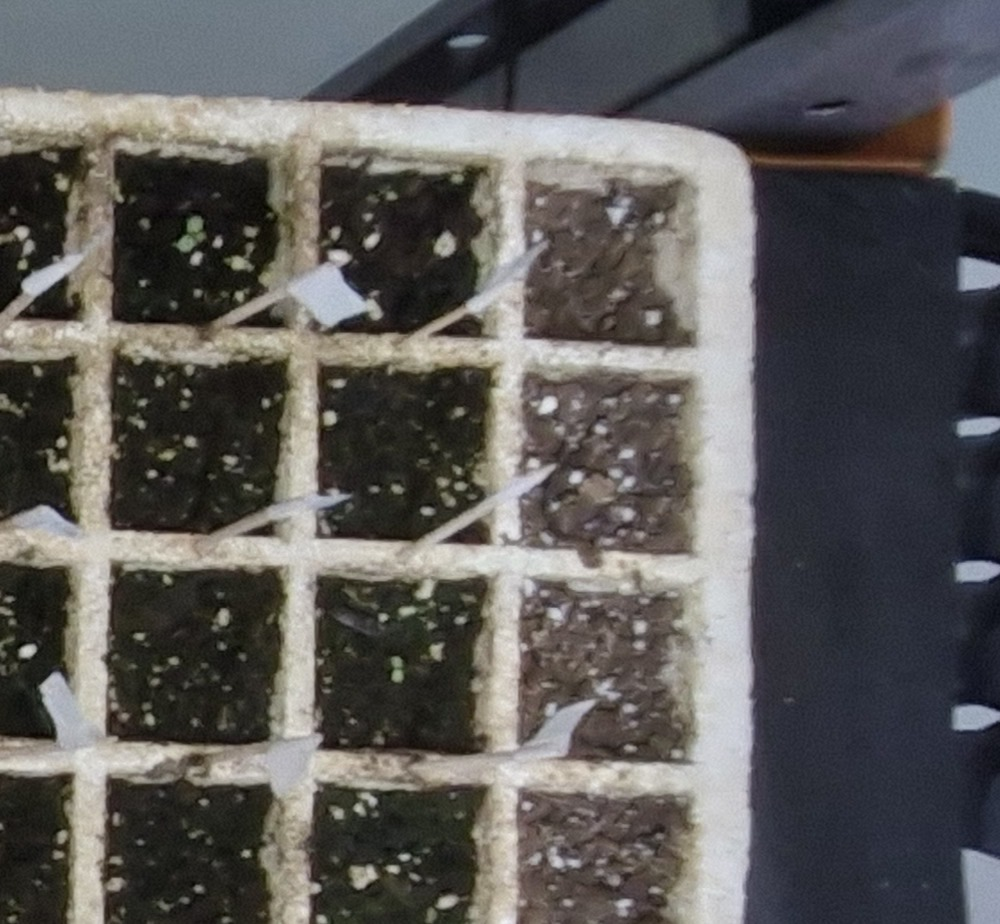Folha: (177, 234, 198, 253), (186, 216, 202, 232), (391, 667, 404, 682), (391, 657, 405, 668), (196, 231, 207, 243)
Germinacao: (177, 214, 206, 253), (390, 654, 404, 682)
